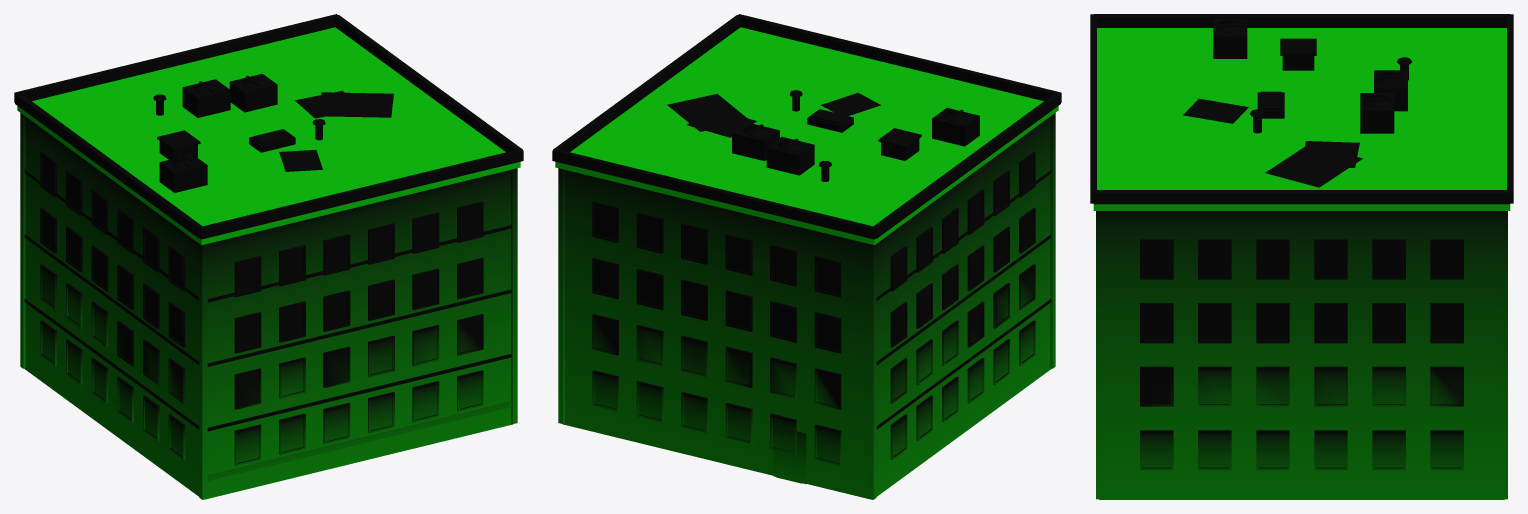
The model's file is city4storyc.glb.
3 renders of one model, left to right at view 1: azimuth 30°, elevation 25°; view 2: azimuth 150°, elevation 25°; view 3: azimuth 270°, elevation 25°, orthographic. The views are drawn at different scales.
Parts seen in each view (by area): view 1: lod0; view 2: lod0; view 3: lod0.
Part boxes in pixels (x1,y1,x2,y2): lod0: (14, 14, 523, 499); lod0: (552, 14, 1061, 499); lod0: (1090, 14, 1513, 499).
Size of what is drawn, in the model's own units: 18.7 by 15.84 by 18.7.
